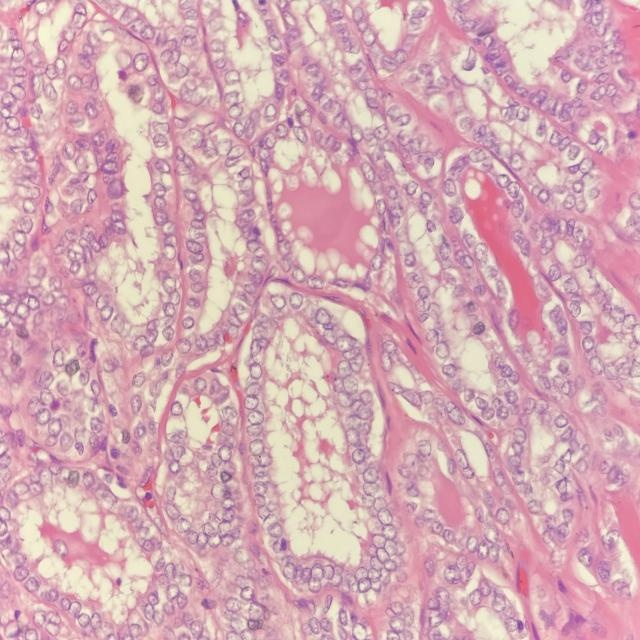TC: (305, 302, 334, 336), (108, 304, 134, 341), (171, 327, 195, 367), (447, 446, 473, 481), (269, 278, 290, 317), (128, 386, 150, 423), (336, 372, 361, 404), (413, 429, 435, 465), (242, 357, 270, 385), (244, 435, 272, 462), (222, 138, 249, 166), (157, 269, 182, 299), (410, 291, 435, 321), (304, 268, 329, 298), (213, 441, 235, 475), (360, 460, 387, 487), (434, 173, 459, 202), (510, 422, 532, 454), (246, 251, 270, 279), (562, 373, 584, 403), (579, 327, 601, 357), (238, 405, 267, 427), (444, 399, 468, 425), (86, 373, 109, 400), (289, 121, 312, 148), (185, 236, 206, 264), (360, 157, 378, 189), (157, 215, 179, 240), (447, 200, 468, 226), (432, 338, 452, 364), (372, 192, 391, 217), (402, 249, 418, 274)
